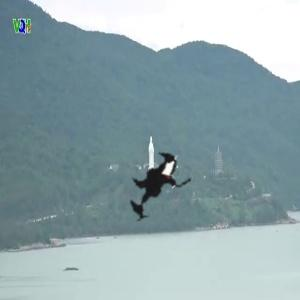drone: (103, 133, 218, 248)
